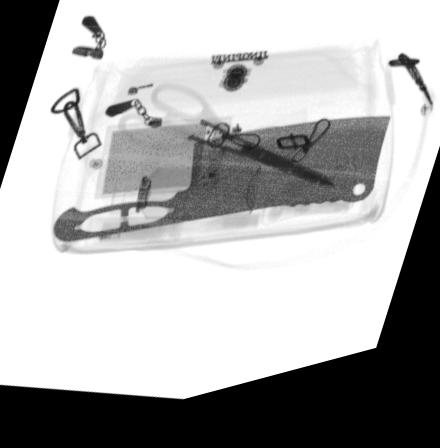Knife: (52, 135, 393, 247)
Powerbank: (93, 132, 230, 205)
Scissors: (118, 91, 337, 204)
Sprayer: (108, 175, 260, 229)
